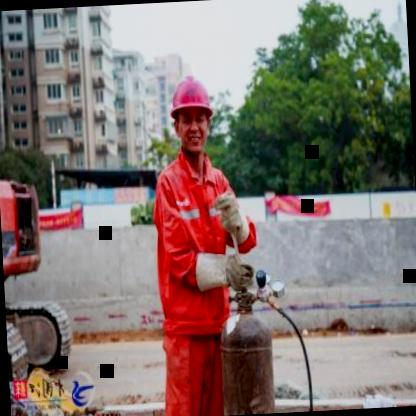helmet: (165, 67, 216, 161)
